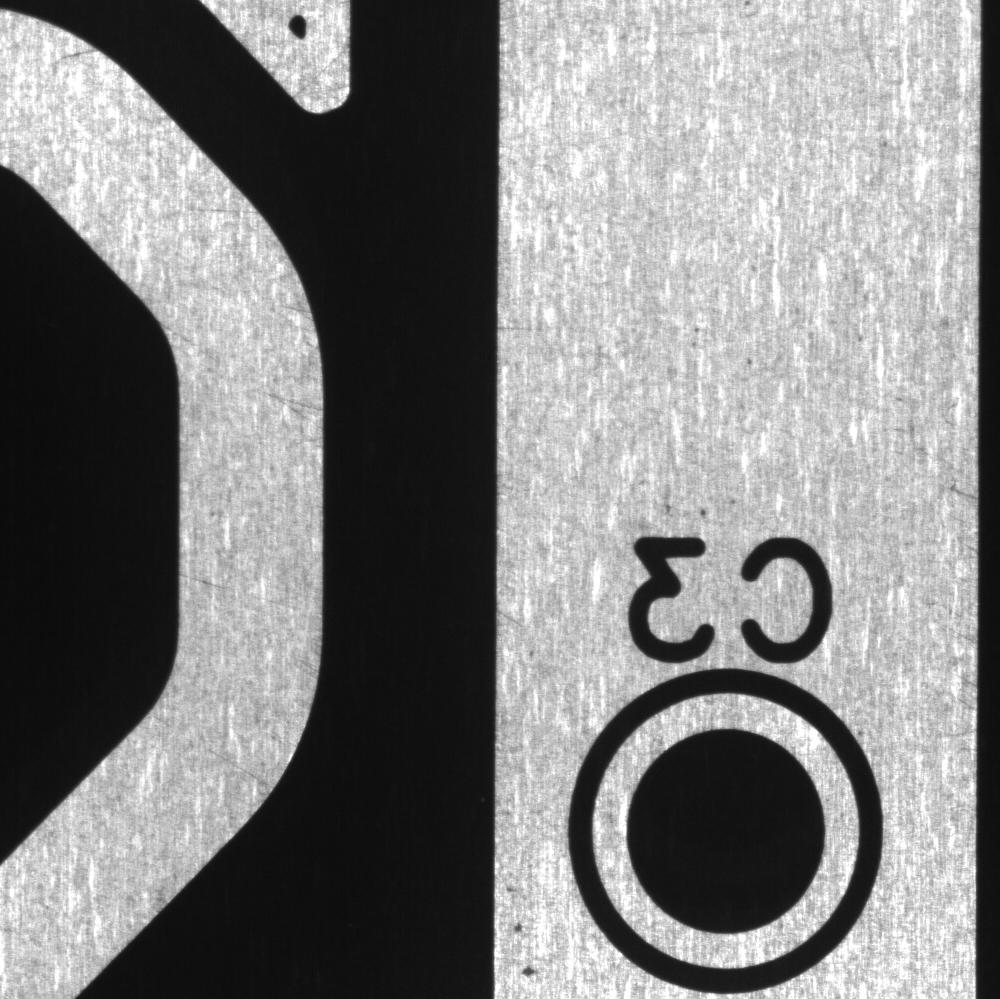Discolor: (269, 3, 325, 50)
Etching: (499, 872, 529, 943), (516, 956, 547, 987)
Pinhole: (691, 496, 714, 525)
Scar: (183, 331, 322, 430), (149, 710, 273, 787), (183, 562, 304, 620), (296, 37, 348, 98), (170, 192, 260, 223), (499, 309, 564, 343), (35, 41, 96, 76), (496, 596, 537, 637)
